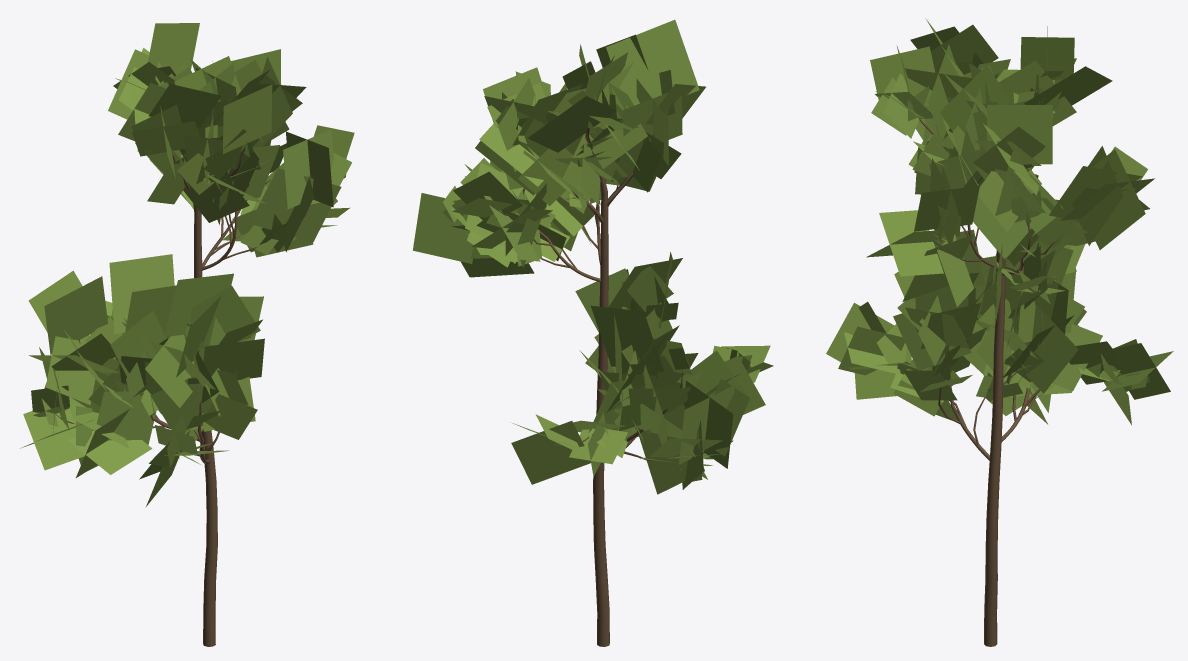
Rendered from meadow-aspen-b.glb.
3 renders of one model, left to right at view 1: azimuth 30°, elevation 25°; view 2: azimuth 150°, elevation 25°; view 3: azimuth 270°, elevation 25°, orthographic.
Parts seen in each view (by area): view 1: leaves, bark; view 2: leaves, bark; view 3: leaves, bark.
Boxes of the visible parts, bbox=[...] form: leaves: bbox=[20, 23, 354, 507]; bark: bbox=[55, 147, 309, 646]; leaves: bbox=[412, 19, 773, 494]; bark: bbox=[495, 122, 704, 646]; leaves: bbox=[826, 18, 1173, 425]; bark: bbox=[904, 118, 1078, 646].
Size of the model in its own units: 20.94 by 37.5 by 19.36.
